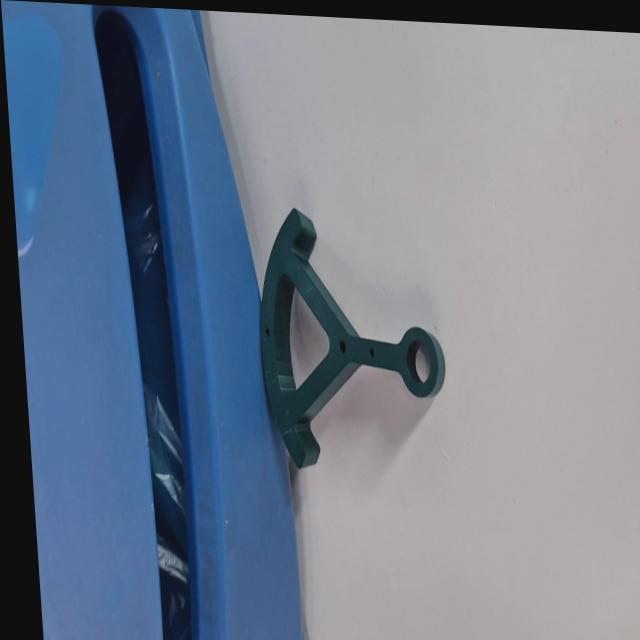haptic: (249, 204, 453, 479)
